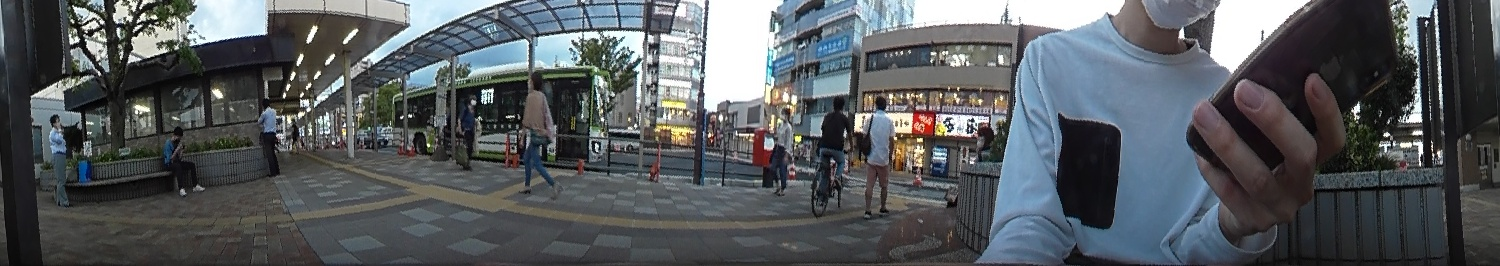difficult_person: (287, 114, 300, 150)
person: (515, 67, 555, 193), (859, 91, 897, 219), (811, 92, 854, 193), (161, 124, 206, 198), (765, 104, 797, 194), (45, 112, 71, 210), (255, 96, 280, 178), (454, 90, 482, 162)
